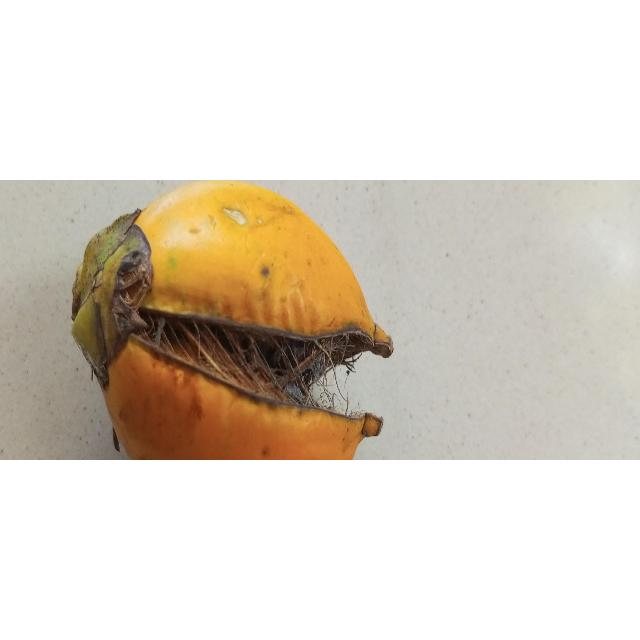damaged: (72, 180, 394, 461)
